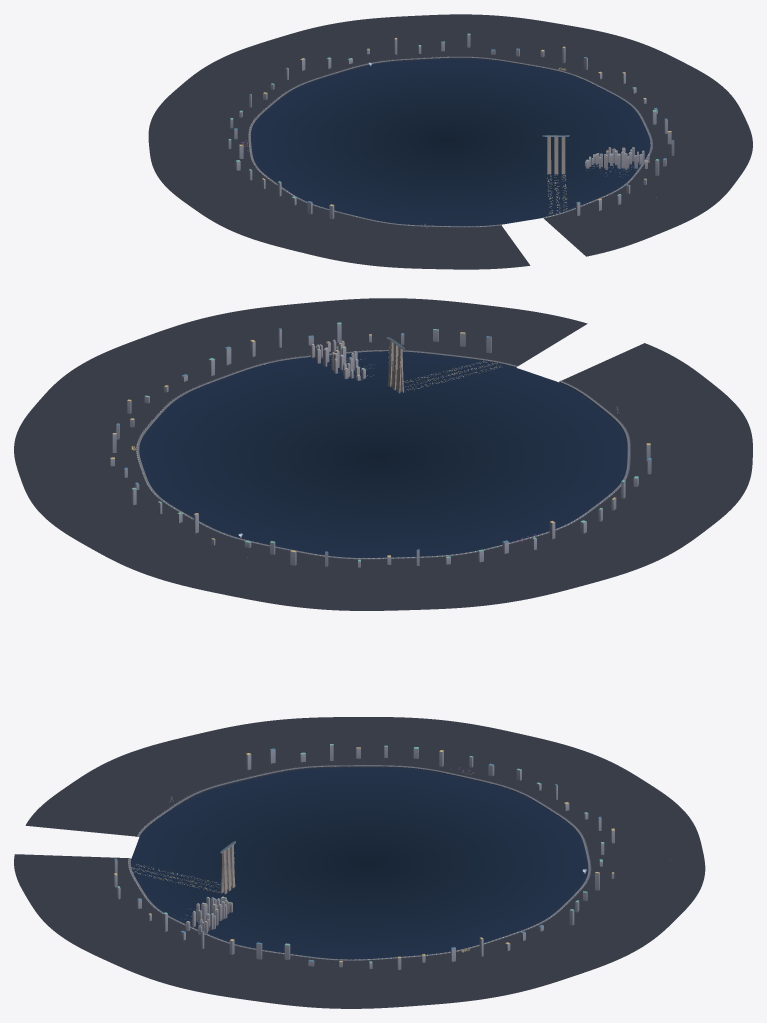
Rendered from marinabay.glb.
3 views of the same model, one above another, from view 1: azimuth 30°, elevation 25°; view 2: azimuth 150°, elevation 25°; view 3: azimuth 270°, elevation 25° (orthographic). The views are drawn at different scales.
Visible parts, largest first — view 1: Sea, Land_004, Land_005, Land_003, Land_010, Land_002, Land_000, Land_006, Land_001, Land_007, Land_009, Land_008 (+4 smaller); view 2: Sea, Land_010, Land_000, Land_002, Land_003, Land_004, Land_005, Land_006, Land_007, Land_009, Land_008, Land_001 (+4 smaller); view 3: Sea, Land_010, Land_000, Land_002, Land_003, Land_009, Land_004, Land_008, Land_001, Land_007, Land_006, Land_005 (+4 smaller).
Part boxes in pixels (x1=…): Sea: x1=251, y1=58, x2=650, y2=226; Land_004: x1=444, y1=14, x2=597, y2=69; Land_005: x1=293, y1=14, x2=450, y2=69; Land_003: x1=552, y1=31, x2=712, y2=101; Land_010: x1=305, y1=217, x2=458, y2=269; Land_002: x1=626, y1=79, x2=752, y2=145; Land_000: x1=544, y1=188, x2=705, y2=256; Land_006: x1=185, y1=33, x2=349, y2=100; Land_001: x1=622, y1=145, x2=752, y2=210; Land_007: x1=148, y1=82, x2=276, y2=145; Land_009: x1=193, y1=187, x2=354, y2=253; Land_008: x1=149, y1=142, x2=277, y2=208; Sea: x1=139, y1=351, x2=627, y2=557; Land_010: x1=590, y1=373, x2=752, y2=450; Land_000: x1=394, y1=298, x2=587, y2=367; Land_002: x1=65, y1=317, x2=267, y2=401; Land_003: x1=14, y1=376, x2=174, y2=456; Land_004: x1=14, y1=453, x2=170, y2=535; Land_005: x1=68, y1=506, x2=261, y2=591; Land_006: x1=208, y1=545, x2=394, y2=610; Land_007: x1=388, y1=543, x2=576, y2=610; Land_009: x1=601, y1=450, x2=752, y2=528; Land_008: x1=512, y1=504, x2=707, y2=587; Land_001: x1=206, y1=298, x2=398, y2=363; Sea: x1=131, y1=767, x2=588, y2=959; Land_010: x1=58, y1=738, x2=239, y2=818; Land_000: x1=14, y1=854, x2=154, y2=930; Land_002: x1=181, y1=946, x2=358, y2=1008; Land_003: x1=355, y1=947, x2=535, y2=1008; Land_009: x1=182, y1=717, x2=353, y2=781; Land_004: x1=474, y1=911, x2=661, y2=987; Land_008: x1=352, y1=717, x2=523, y2=778; Land_001: x1=54, y1=909, x2=237, y2=987; Land_007: x1=469, y1=735, x2=652, y2=813; Land_006: x1=556, y1=786, x2=704, y2=861; Land_005: x1=558, y1=858, x2=705, y2=932.
Bounding box in the file's own units: 5461 × 376 × 5813.
